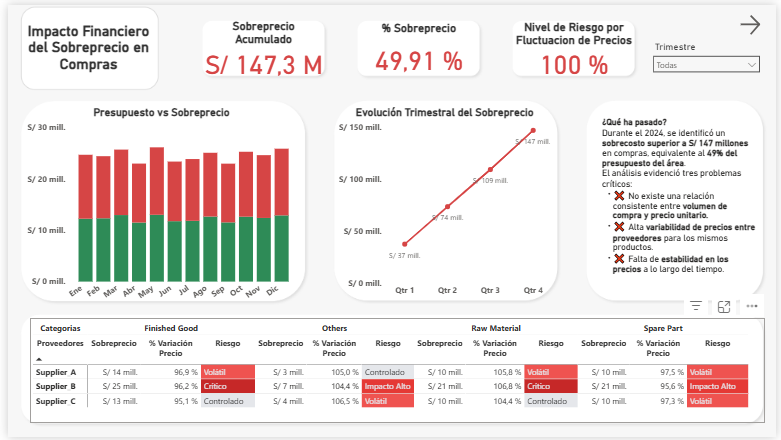

The dashboard page shown, as its layout file describes it:
{"tool":"powerbi","page":{"name":"Página 1","canvas":[1280,720],"ordinal":0},"visuals":[{"type":"textbox","box":[20,24.3,228.6,94.3],"z":0},{"type":"lineChart","title":"Evolución Trimestral del Sobreprecio","fields":{"Category":["Dim_Calendario.Date.Variación.Jerarquía de fechas.Trimestre"],"Y":["Medidas.Ahorro acumulado"]},"box":[546.7,167.8,362.2,325.6],"z":1000},{"type":"columnChart","title":"Presupuesto vs Sobreprecio","fields":{"Y":["Medidas.Gasto Total Presupuestado","Medidas.dif Sobreprecio"],"Category":["Dim_Calendario.Mes"]},"box":[26.7,168.3,458.3,341.7],"z":2000},{"type":"card","title":"% Sobreprecio","fields":{"Values":["Medidas.% Ahorro"]},"box":[580,26.7,210,102.2],"z":3000},{"type":"card","title":"Sobreprecio Acumulado","fields":{"Values":["Medidas.Sobreprecio_Texto"]},"box":[322.2,23.3,208.9,100],"z":4000},{"type":"card","title":"Nivel de Riesgo por Fluctuacion de Precios","fields":{"Values":["Medidas.% Productos Alto Riesgo"]},"box":[822.5,25,240,96.2],"z":5000},{"type":"pivotTable","fields":{"Rows":["dim_proveedores.supplier_name"],"Columns":["dim_productos.category"],"Values":["Medidas.Sobreprecio","Medidas.% Variación Precio","Medidas.Riesgo"]},"box":[36.2,521.2,1225,175],"z":6000},{"type":"textbox","box":[985.7,181.4,267.1,290],"z":7000},{"type":"actionButton","box":[1215,11.7,46.7,43.3],"z":8000},{"type":"slicer","fields":{"Values":["Dim_Calendario.Date.Variación.Jerarquía de fechas.Trimestre"]},"box":[1064.4,54.4,197.8,68.9],"z":9000}]}

Visuals, with their boxes in screenshot pixels (x1, y1, x2, y2), scaled from the page's 1280x720 canvas onto the 781x440 screenshot:
textbox: x1=12, y1=15, x2=152, y2=72
"Evolución Trimestral del Sobreprecio" lineChart: x1=334, y1=103, x2=555, y2=302
"Presupuesto vs Sobreprecio" columnChart: x1=16, y1=103, x2=296, y2=312
"% Sobreprecio" card: x1=354, y1=16, x2=482, y2=79
"Sobreprecio Acumulado" card: x1=197, y1=14, x2=324, y2=75
"Nivel de Riesgo por Fluctuacion de Precios" card: x1=502, y1=15, x2=648, y2=74
pivotTable - dim_proveedores.supplier_name x dim_productos.category: x1=22, y1=319, x2=770, y2=425
textbox: x1=601, y1=111, x2=764, y2=288
actionButton: x1=741, y1=7, x2=770, y2=34
slicer - Dim_Calendario.Date.Variación.Jerarquía de fechas.Trimestre: x1=649, y1=33, x2=770, y2=75
